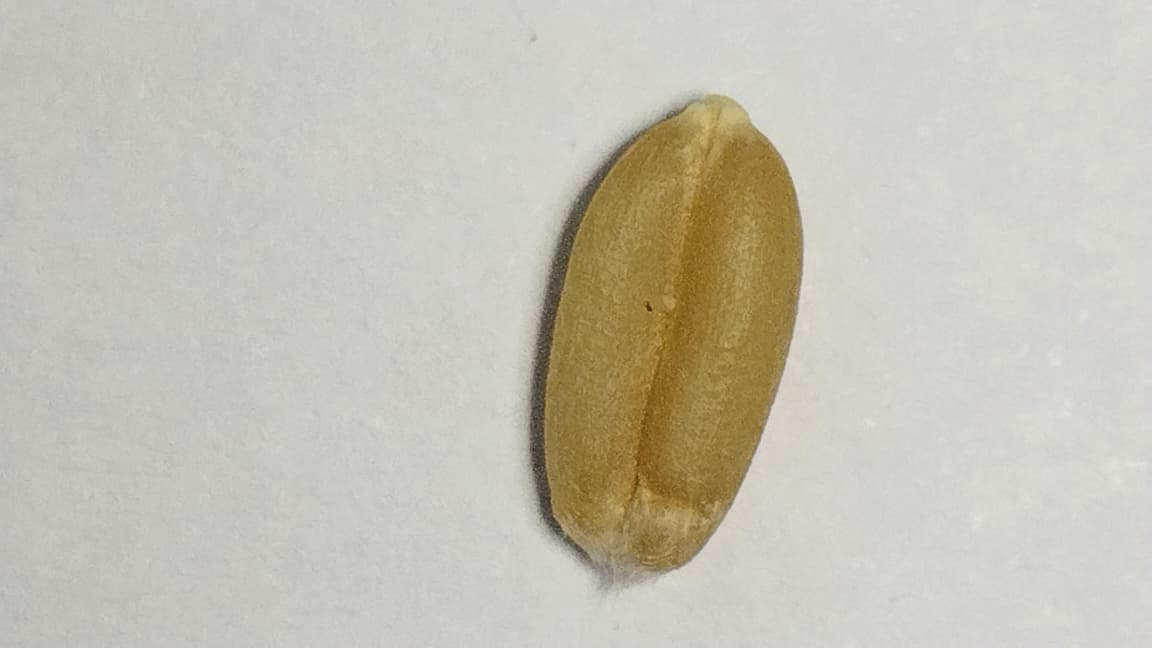healthy: (531, 96, 801, 567)
